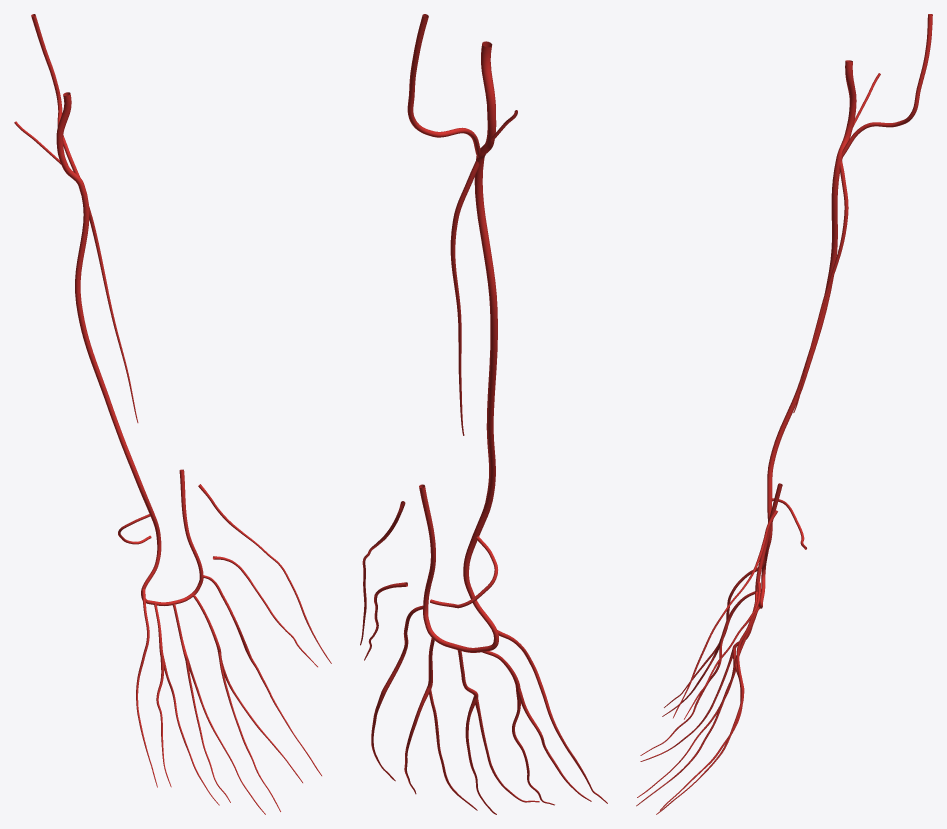
Rendered from circulatorio-ulnar-artery-l.glb.
3 renders of one model, left to right at view 1: azimuth 30°, elevation 25°; view 2: azimuth 150°, elevation 25°; view 3: azimuth 270°, elevation 25°, orthographic. The views are drawn at different scales.
Parts seen in each view (by area): view 1: Proper palmar digital arteries.l, Ulnar artery.l, Superficial palmar arch.l, Common palmar digital arteries.l, Recurrent interosseous artery.l, Posterior interosseous artery.l; view 2: Proper palmar digital arteries.l, Ulnar artery.l, Superficial palmar arch.l, Recurrent interosseous artery.l, Common palmar digital arteries.l, Posterior interosseous artery.l, Dorsal carpal branch of ulnar artery.l; view 3: Proper palmar digital arteries.l, Ulnar artery.l, Recurrent interosseous artery.l, Posterior interosseous artery.l, Superficial palmar arch.l, Common palmar digital arteries.l.
Boxes of the visible parts, x1,y1,x2,y2 form: Proper palmar digital arteries.l: (136,484,331,814); Ulnar artery.l: (56,92,154,515); Superficial palmar arch.l: (141,469,203,605); Common palmar digital arteries.l: (154,575,248,660); Recurrent interosseous artery.l: (31,14,79,176); Posterior interosseous artery.l: (89,206,138,422); Proper palmar digital arteries.l: (360,501,607,814); Ulnar artery.l: (473,41,497,537); Superficial palmar arch.l: (419,484,498,652); Recurrent interosseous artery.l: (407,14,480,157); Common palmar digital arteries.l: (381,605,520,699); Posterior interosseous artery.l: (450,177,473,435); Dorsal carpal branch of ulnar artery.l: (430,536,497,608); Proper palmar digital arteries.l: (636,510,777,814); Ulnar artery.l: (767,60,856,499); Recurrent interosseous artery.l: (841,14,932,157); Posterior interosseous artery.l: (793,176,848,412); Superficial palmar arch.l: (755,483,782,608); Common palmar digital arteries.l: (725,589,761,690).
Bounding box in the file's own units: 0.1298 × 0.4103 × 0.1491.
